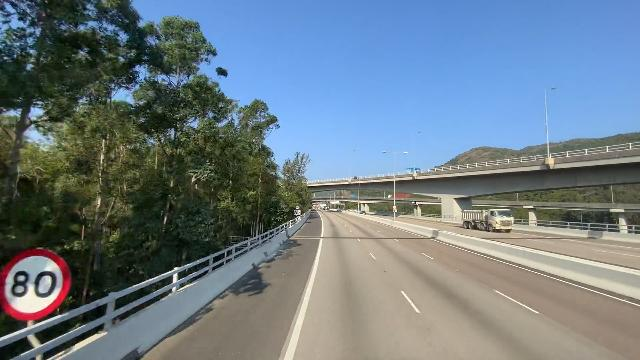truck: (461, 208, 516, 236)
